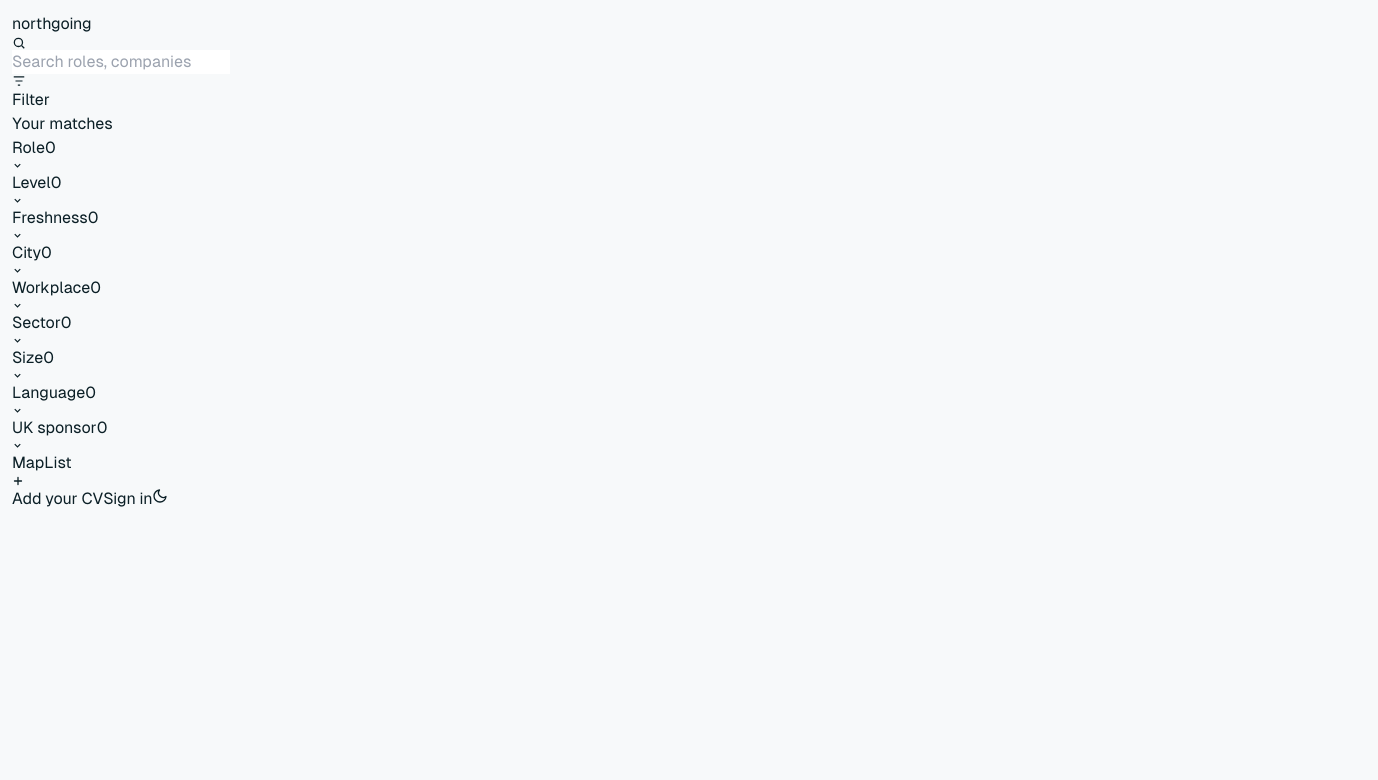
Test: HeadBar facet row › a click outside still closes it
The width and height of the screenshot is (1378, 780).
Click the button "Filter" at x=31, y=93, box [12,74,50,112]
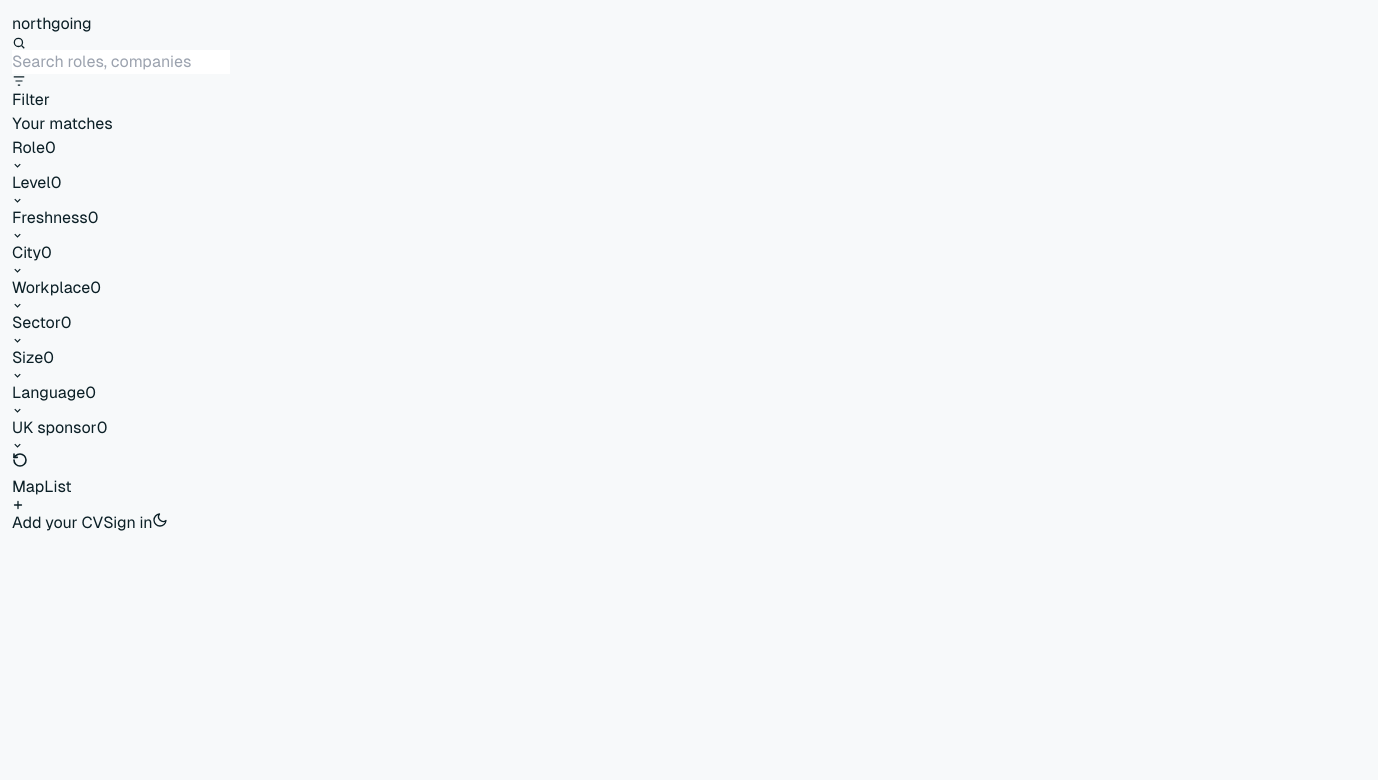
Click the button "Freshness0" at x=55, y=224, box [12,208,98,241]
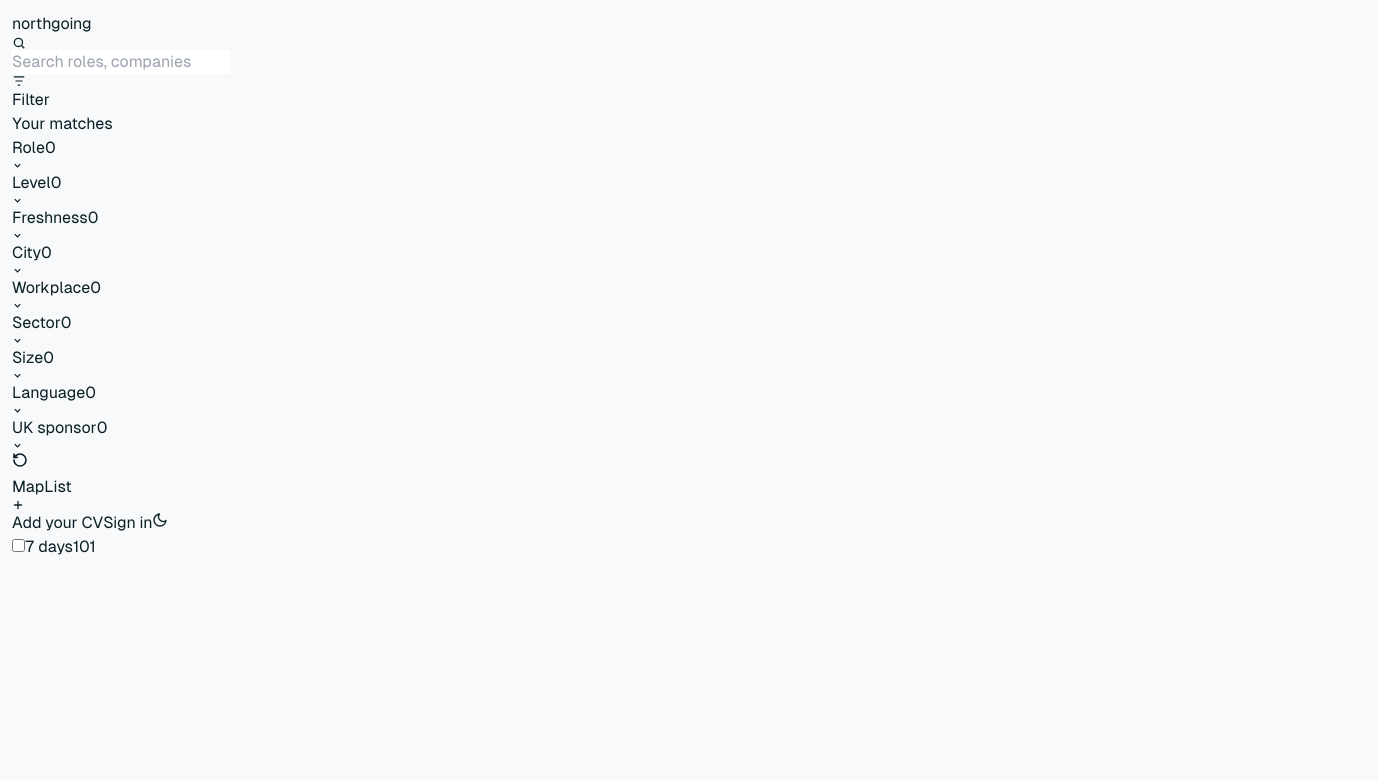
Check: the element with class "fdrop-portal" is shown, box [12,537,96,556]
Click the element that starts with "northgoing" at x=695, y=286, box [12,12,1377,559]
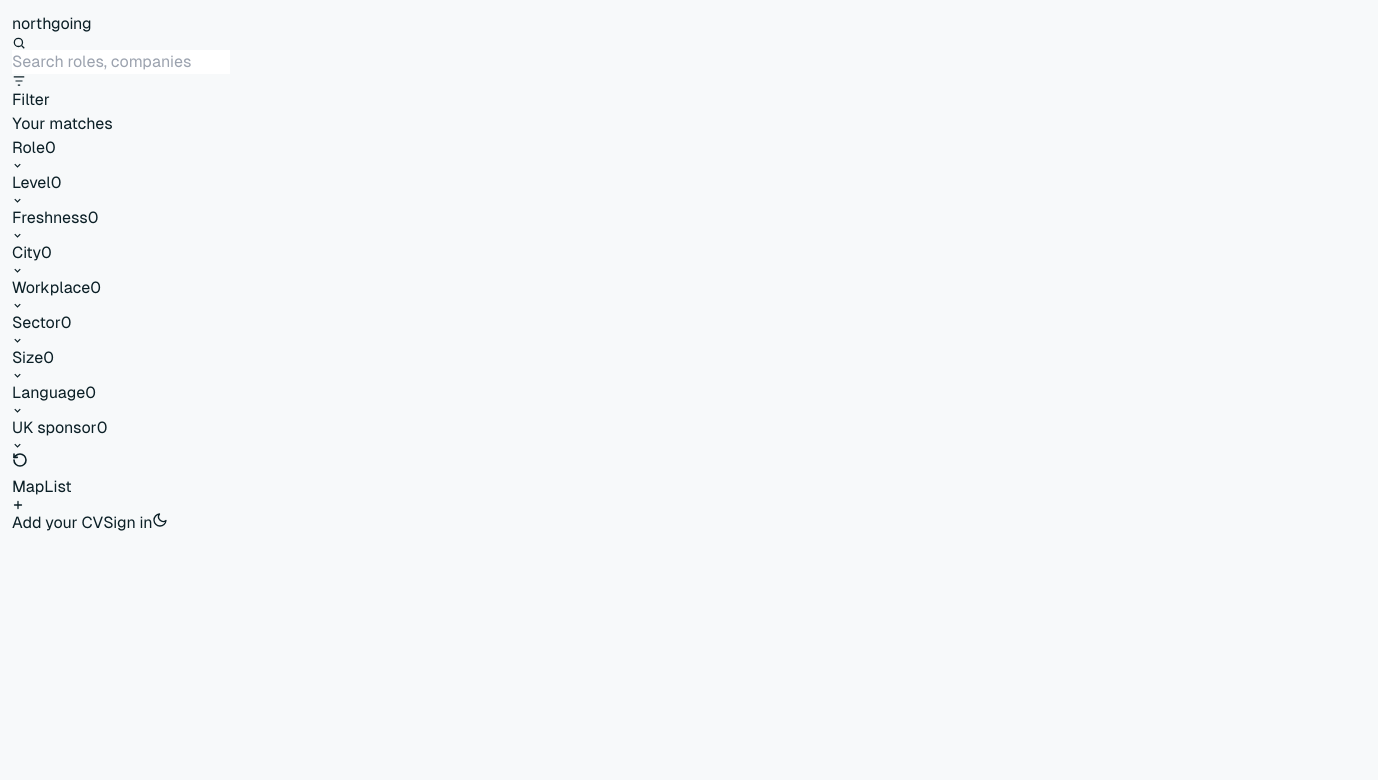
Check: the element with class "fdrop-portal" is gone
